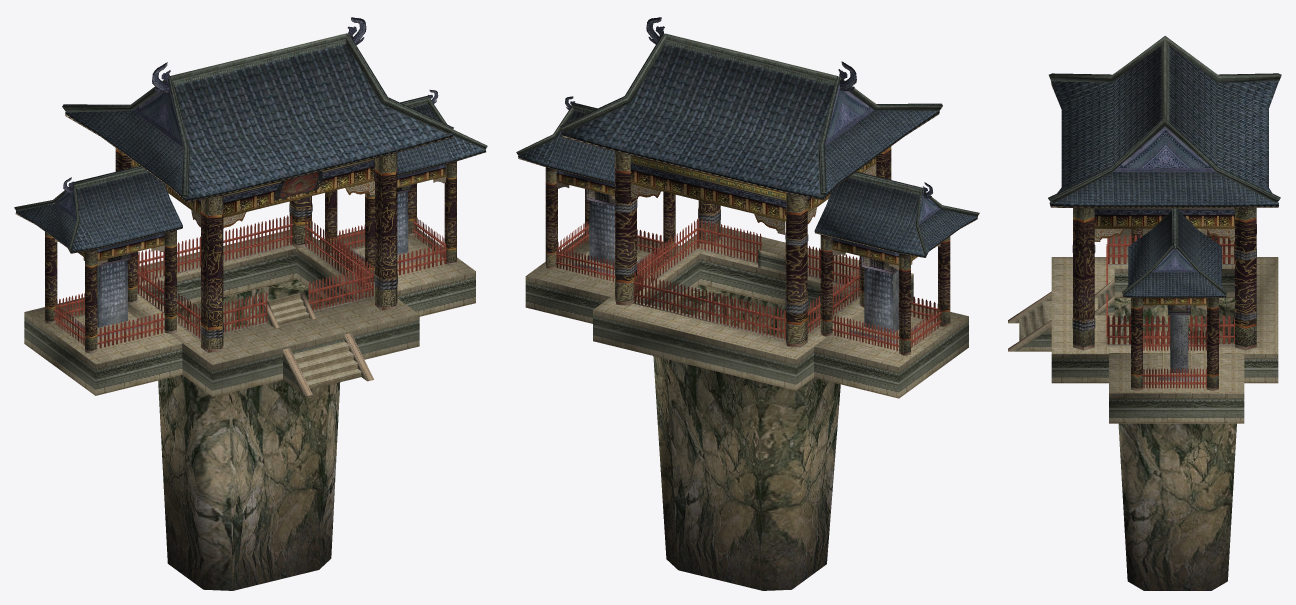
File: cj_portal.glb
The picture shows the model from 3 angles, left to right: view 1: azimuth 30°, elevation 25°; view 2: azimuth 150°, elevation 25°; view 3: azimuth 270°, elevation 25°; orthographic projection. The views are drawn at different scales.
Parts seen in each view (by area): view 1: CJ_por_gidung, CJ_por_roof, CJ_por_fence, CJ_por_fenceal, CJ_por_floor, CJ_por_stone01; view 2: CJ_por_gidung, CJ_por_roof, CJ_por_fence, CJ_por_fenceal, CJ_por_floor, CJ_por_stone01; view 3: CJ_por_roof, CJ_por_gidung, CJ_por_fence, CJ_por_floor, CJ_por_fenceal, CJ_por_stone01.
Part boxes in pixels (<box>): CJ_por_gidung: <box>45,148,456,590</box>; CJ_por_roof: <box>14,33,487,338</box>; CJ_por_fence: <box>24,87,475,396</box>; CJ_por_fenceal: <box>54,17,446,348</box>; CJ_por_floor: <box>25,229,475,364</box>; CJ_por_stone01: <box>97,185,410,327</box>; CJ_por_gidung: <box>545,146,950,590</box>; CJ_por_roof: <box>516,33,979,343</box>; CJ_por_fence: <box>525,84,968,398</box>; CJ_por_fenceal: <box>556,17,941,350</box>; CJ_por_floor: <box>526,227,968,367</box>; CJ_por_stone01: <box>586,189,898,333</box>; CJ_por_roof: <box>1048,36,1281,380</box>; CJ_por_gidung: <box>1019,207,1256,590</box>; CJ_por_fence: <box>1008,127,1278,423</box>; CJ_por_floor: <box>1051,228,1278,394</box>; CJ_por_fenceal: <box>1094,228,1234,388</box>; CJ_por_stone01: <box>1167,305,1191,372</box>.
Bounding box in the file's own units: 13.37 × 16.1 × 7.97.
Materials: 6 (6 with a texture image).
